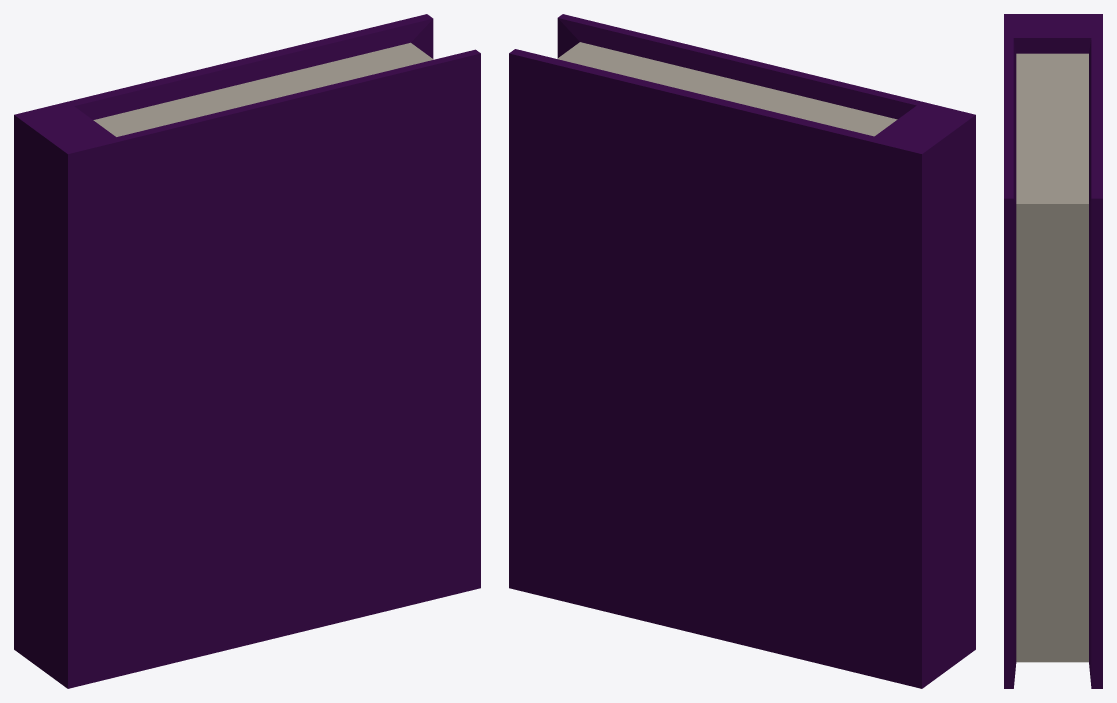
File: vertical book 1.fbx
3 renders of one model, left to right at view 1: azimuth 30°, elevation 25°; view 2: azimuth 150°, elevation 25°; view 3: azimuth 270°, elevation 25°, orthographic. The views are drawn at different scales.
Parts seen in each view (by area): view 1: vertical_book1; view 2: vertical_book1; view 3: vertical_book1.
Boxes of the visible parts, x1=… form: vertical_book1: x1=14, y1=14, x2=480, y2=688; vertical_book1: x1=509, y1=14, x2=975, y2=688; vertical_book1: x1=1004, y1=14, x2=1102, y2=688.
Size of the model in its own units: 1.65 by 2.05 by 0.3735.
